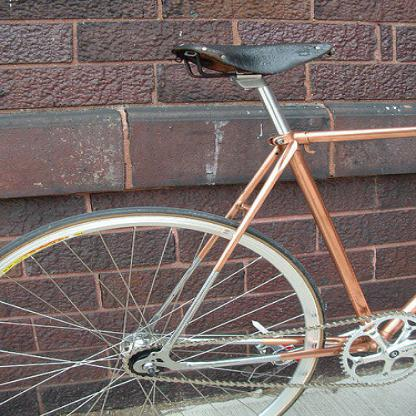bicycle: (3, 35, 413, 412)
